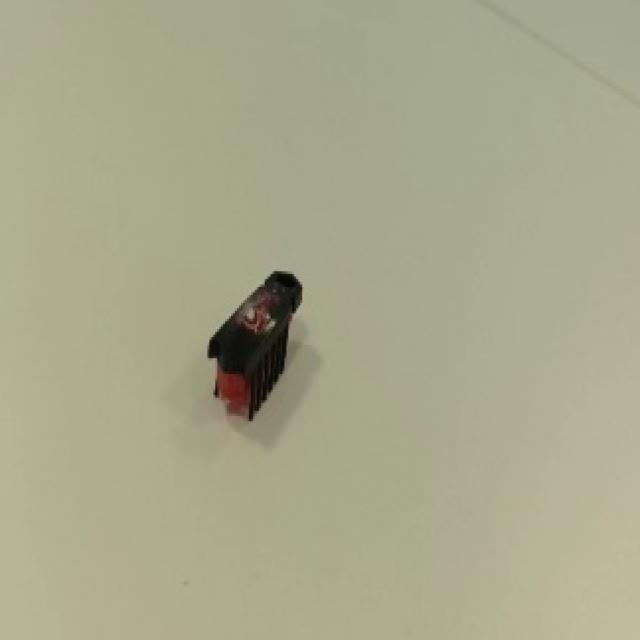2_NanoBug_Negro: (182, 261, 324, 429)
